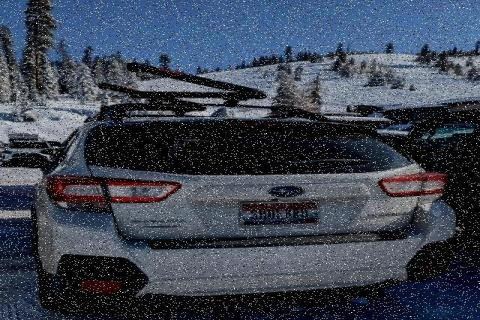LicensePlate: (235, 199, 321, 227)
